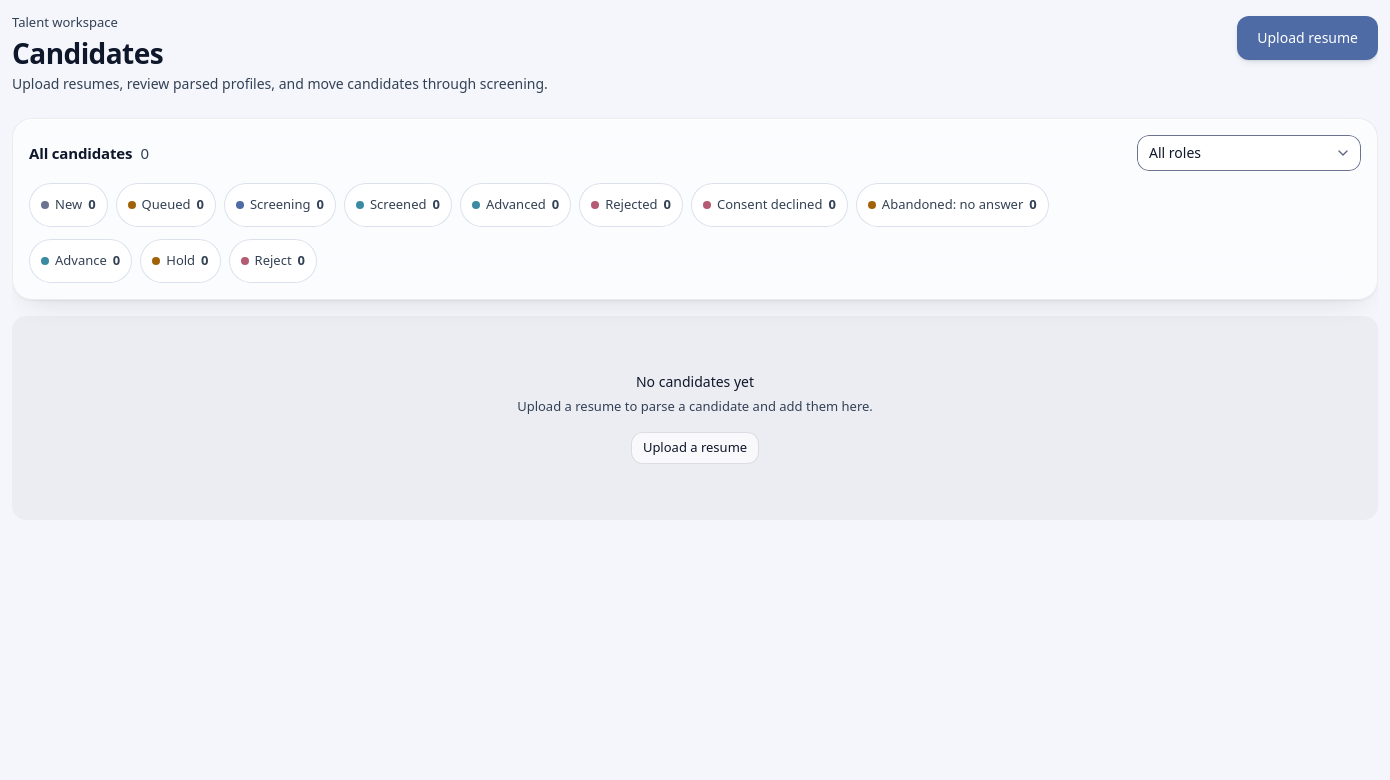
Test: CandidatesPage › shows empty state when no candidates
Expected: the text "No candidates yet" is shown, [636,372,754,392]
Expected: the text "Upload a resume to parse a candidate and add them here." is shown, [517,396,873,416]
Click the button "Upload a resume" at (695, 448), box [631,432,759,464]
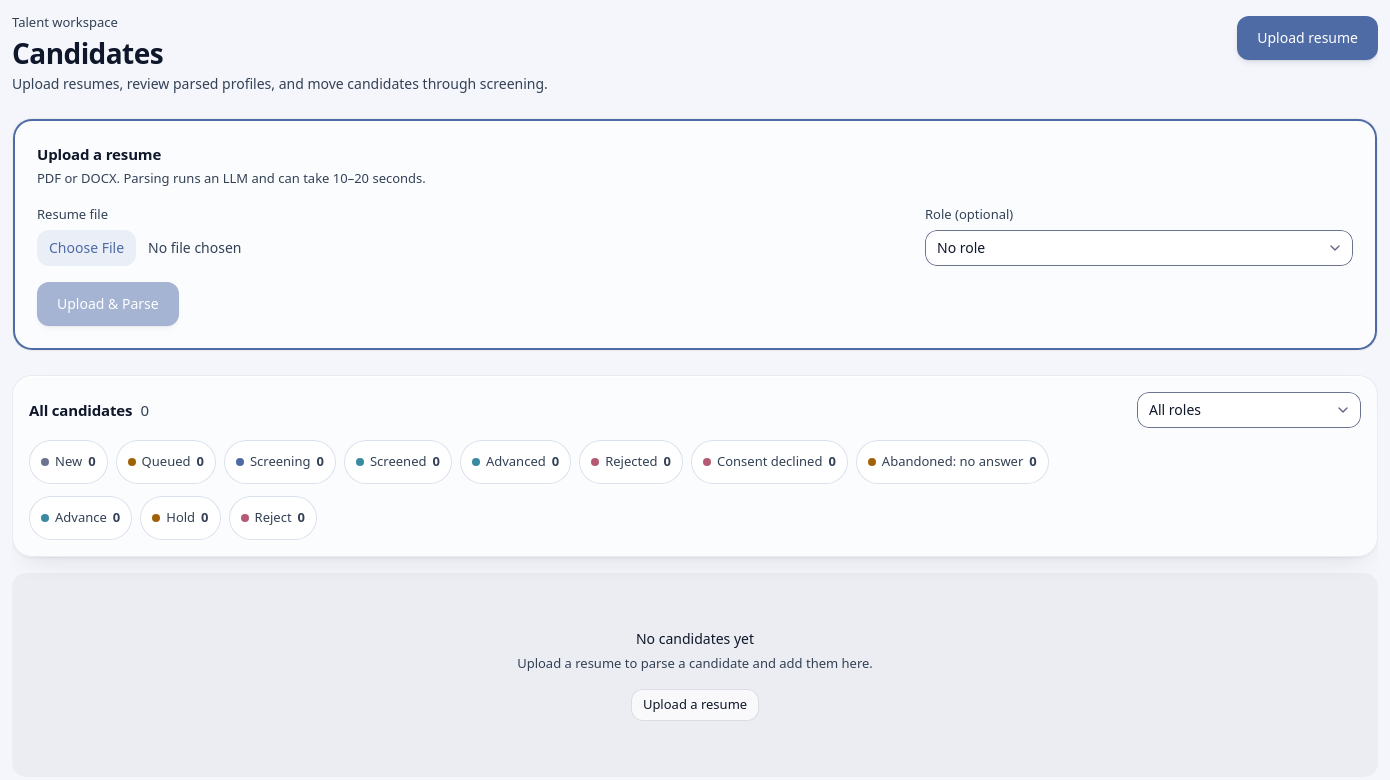
Expected: the button "Upload & Parse" is shown, [37,282,179,326]
